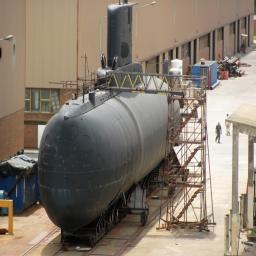submarine: (38, 2, 184, 253)
